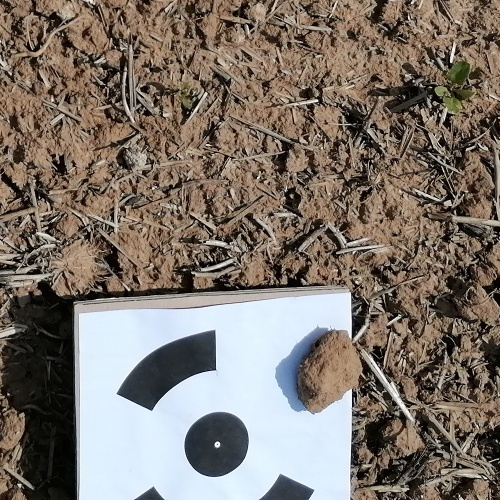beet: (434, 62, 476, 112)
